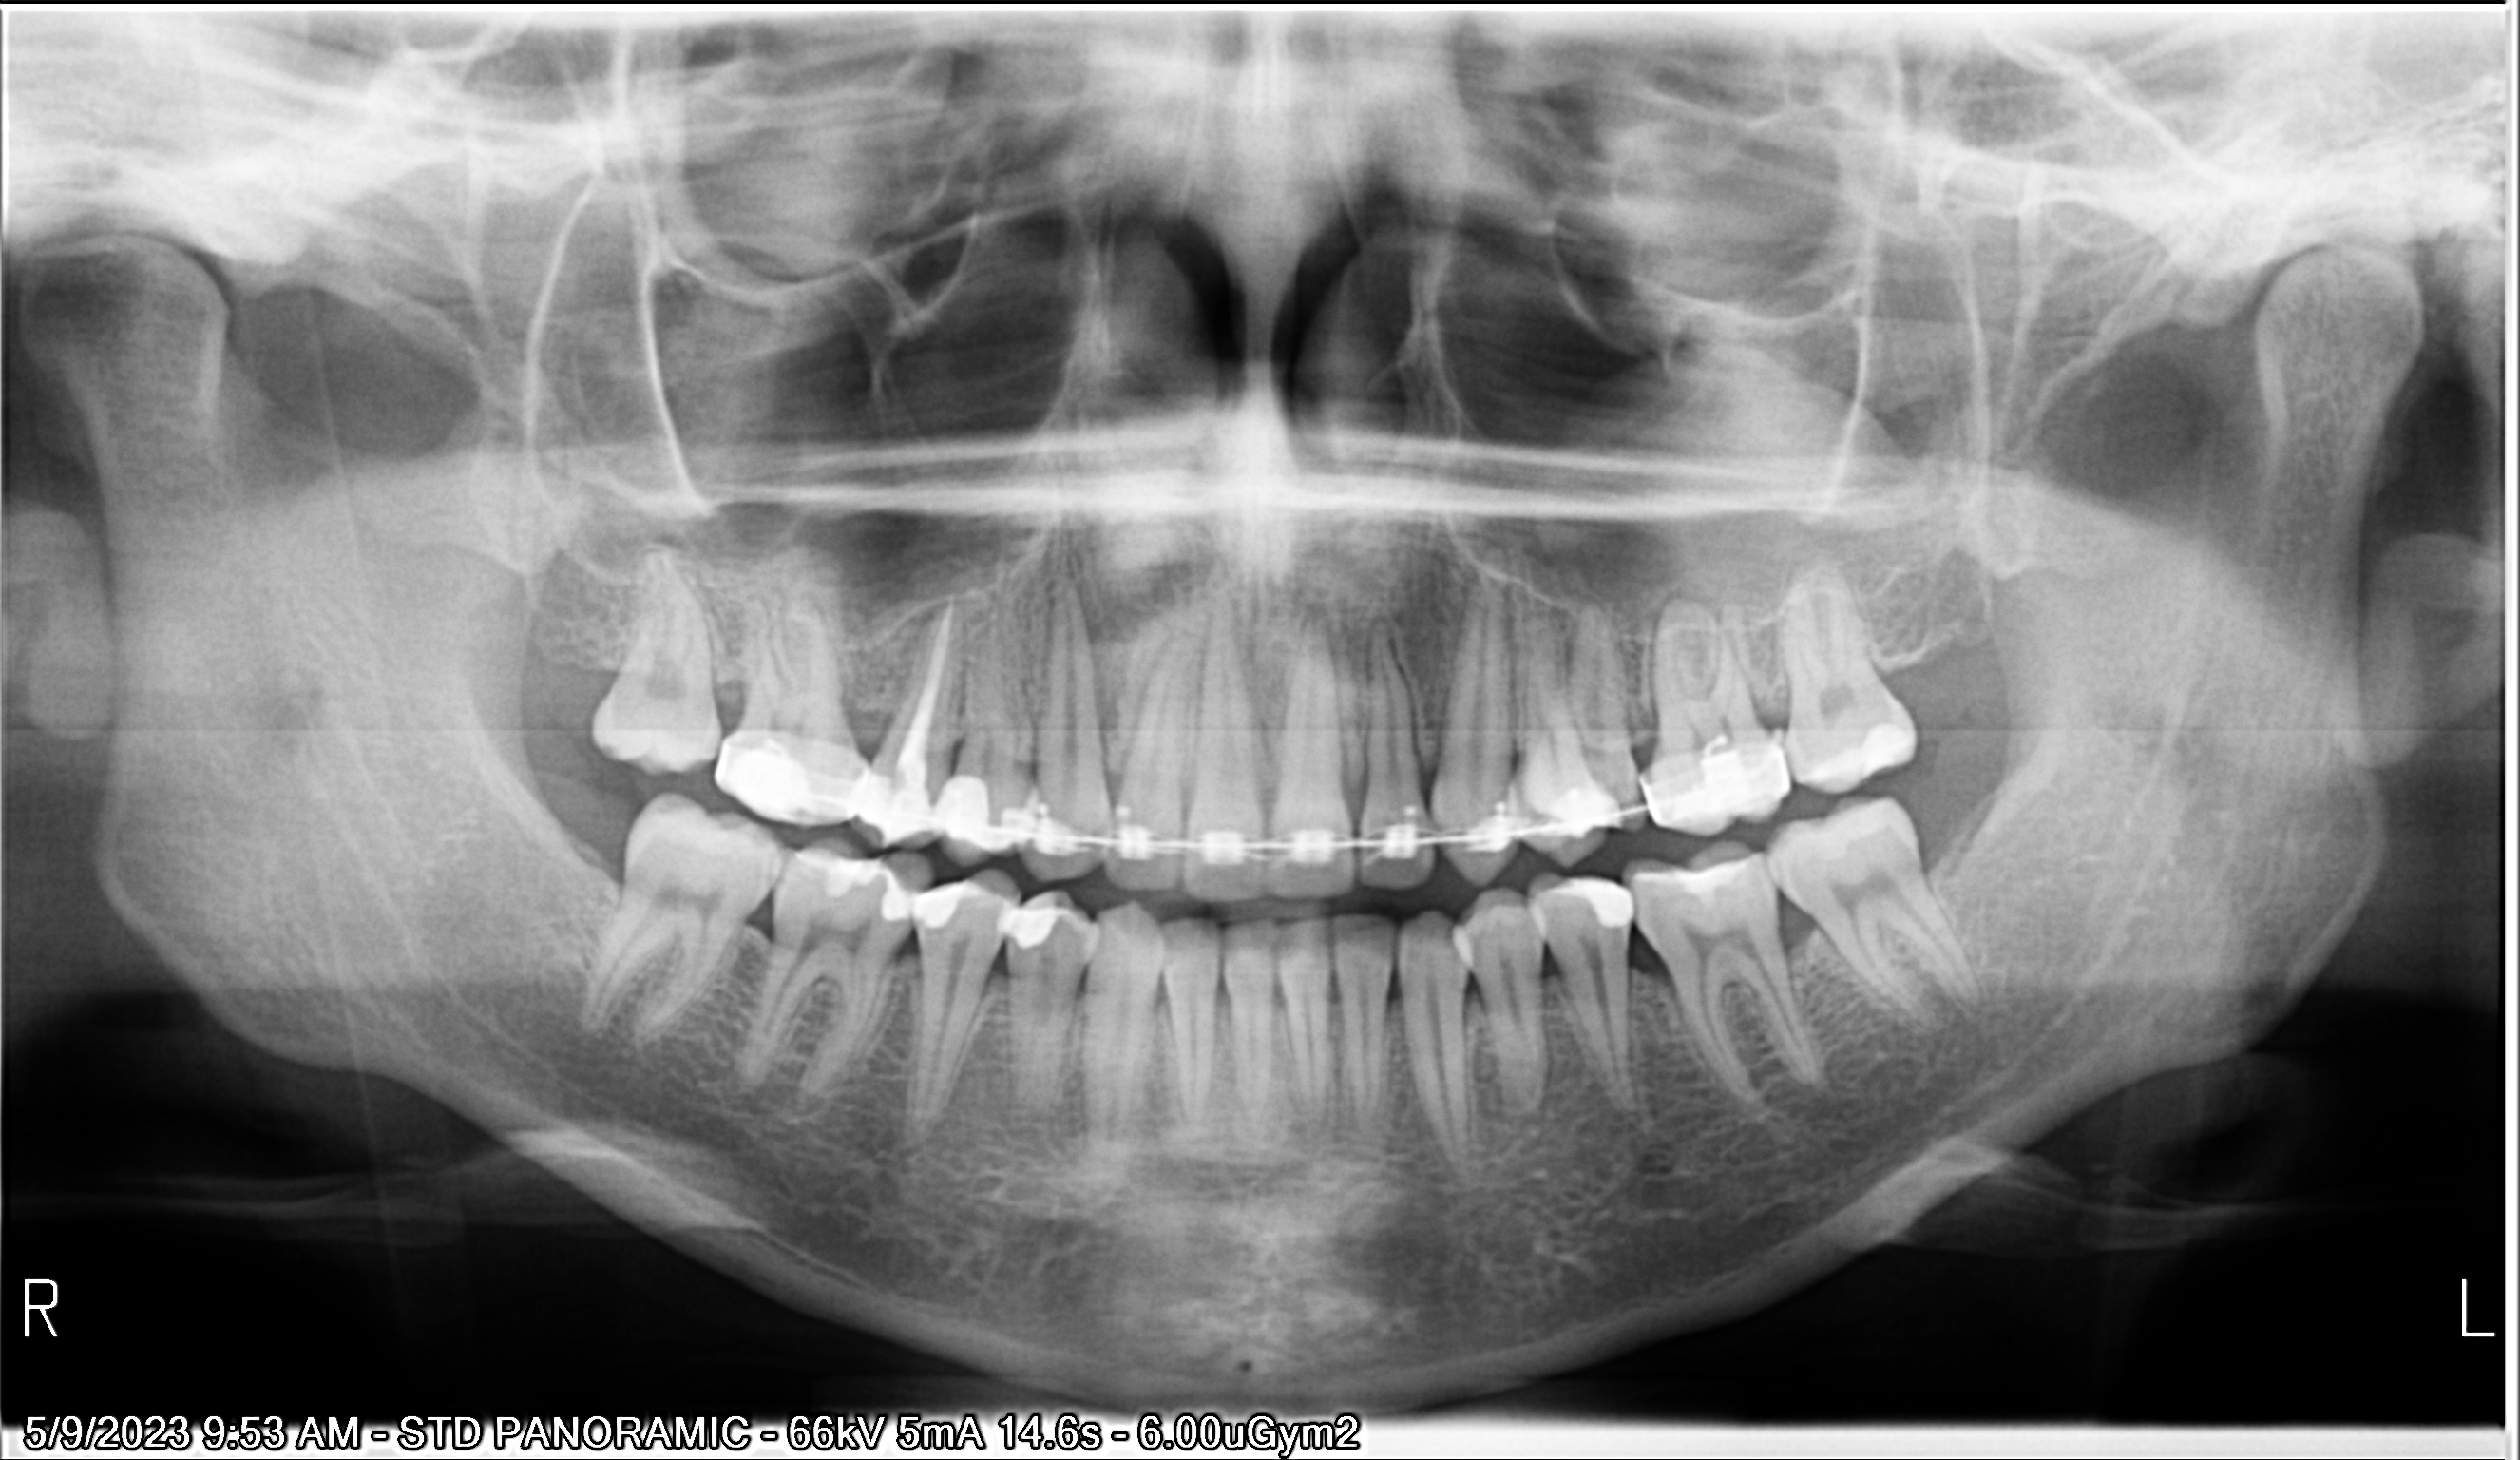END: (901, 582, 945, 779)
OBT: (1851, 716, 1907, 786), (1570, 874, 1626, 933), (941, 772, 985, 843), (1553, 780, 1610, 834), (917, 890, 974, 939), (1660, 867, 1726, 904), (827, 846, 868, 899), (1013, 902, 1051, 952), (882, 867, 908, 912)
ORD: (717, 692, 1989, 881)
